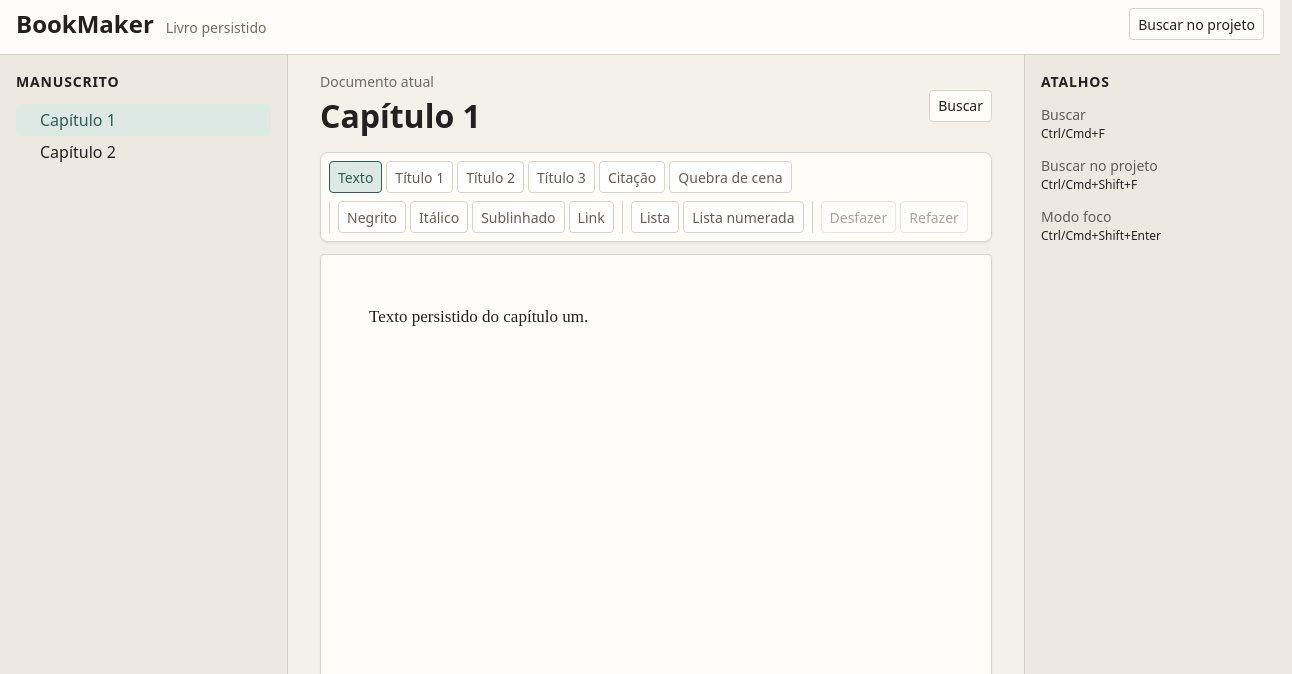
Test: WritingWorkspace › uses persisted project search and navigates to its document
The width and height of the screenshot is (1292, 674).
Check: the field named "Conteúdo de Capítulo 1" is shown, box x1=369 y1=307 x2=588 y2=326
Step 1. Click the button "Buscar no projeto" → (1197, 24), box x1=1129 y1=8 x2=1264 y2=40
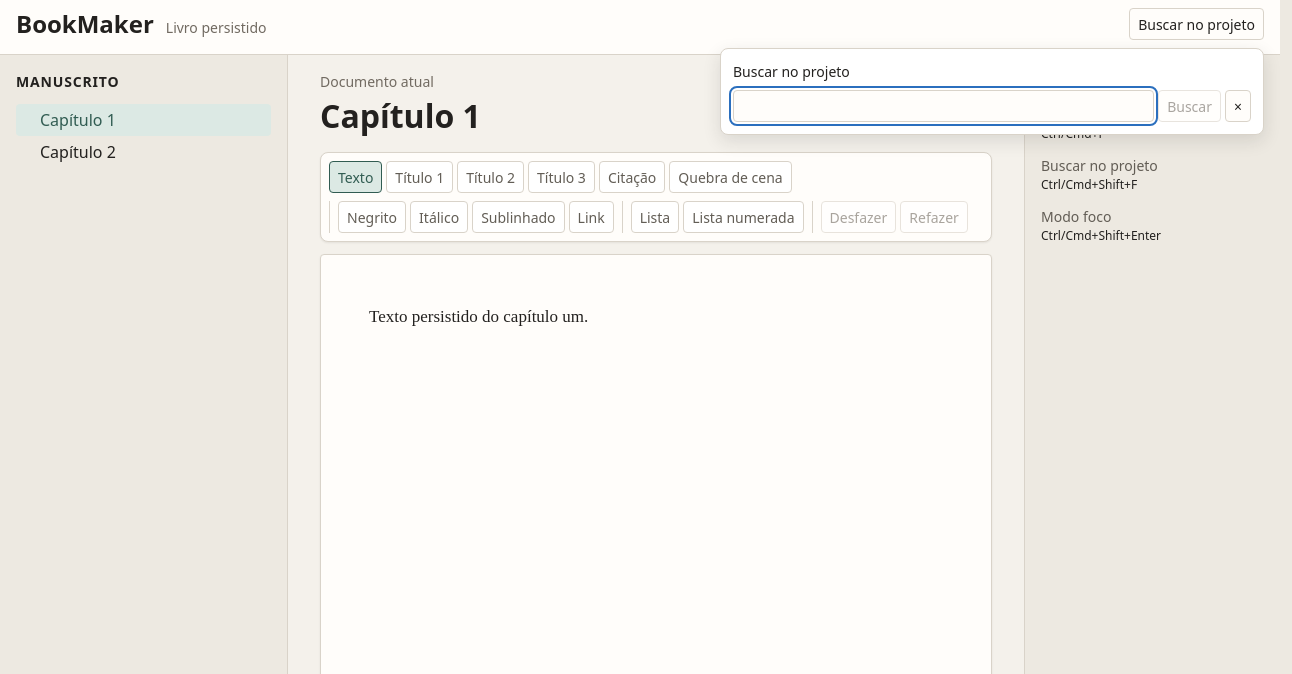
Step 2. Type "reencontro" into the search field → (944, 106), box x1=733 y1=90 x2=1154 y2=122
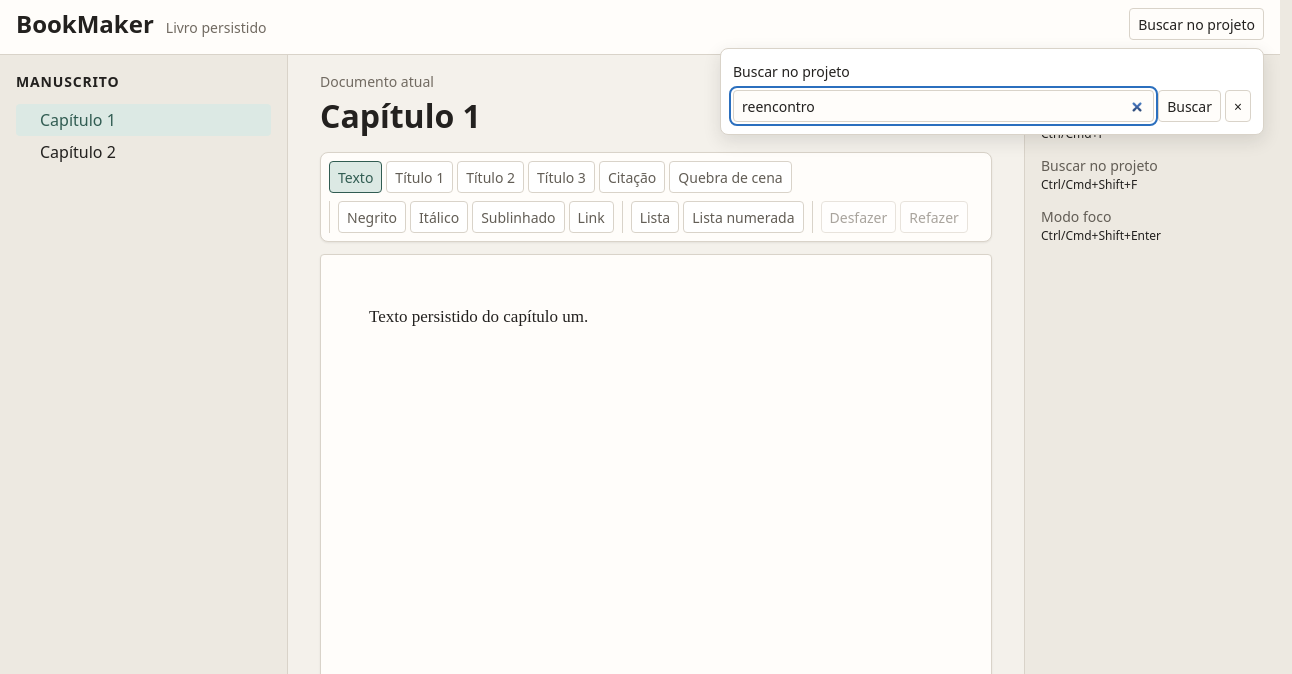
Step 3. Submit the form named "Buscar em todos os documentos", box x1=733 y1=61 x2=1251 y2=122
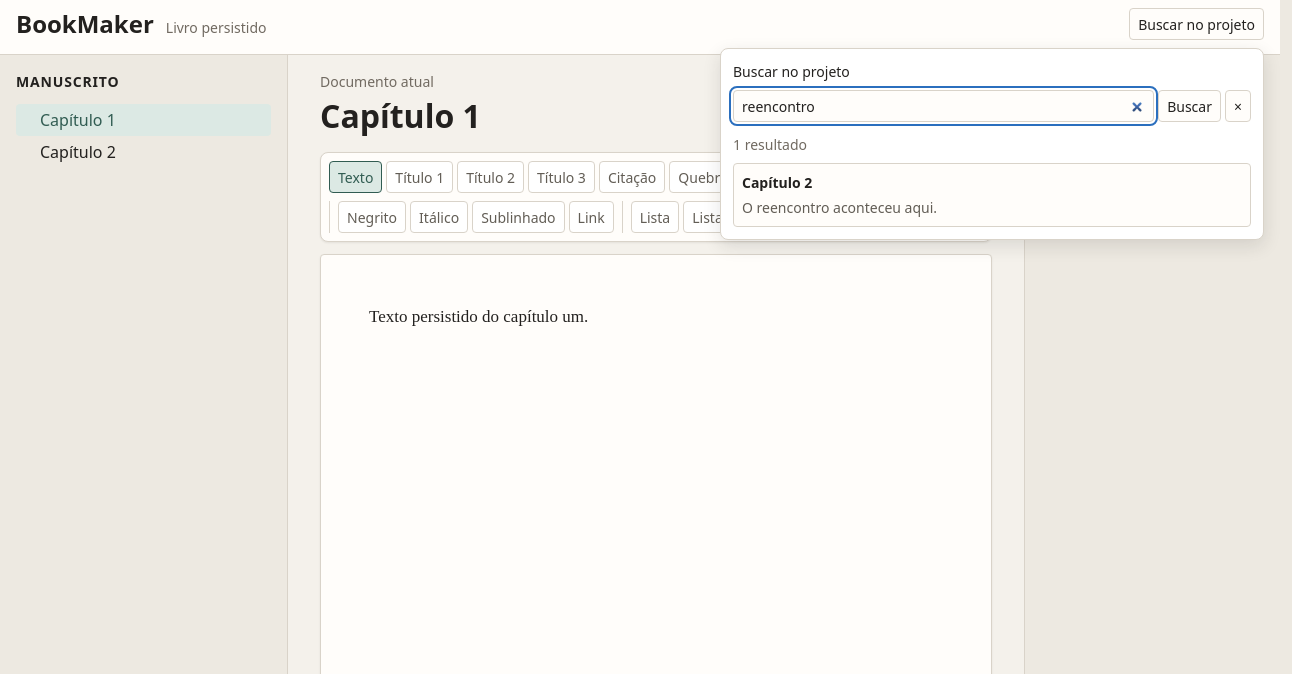
Step 4. Click the button with aria-label "Abrir ocorrência 1 em Capítulo 2" → (777, 182), box x1=733 y1=163 x2=1251 y2=227
(page scrolled)
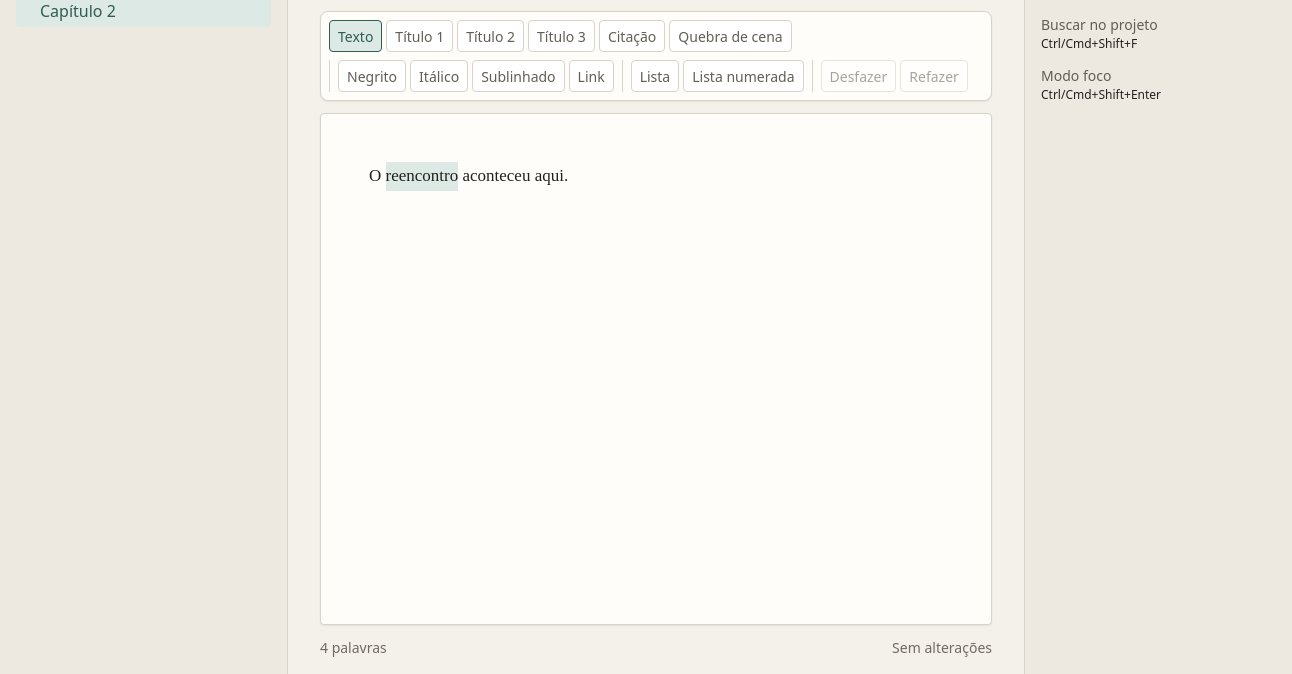
Check: the field named "Conteúdo de Capítulo 2" is shown, box x1=369 y1=166 x2=568 y2=185
